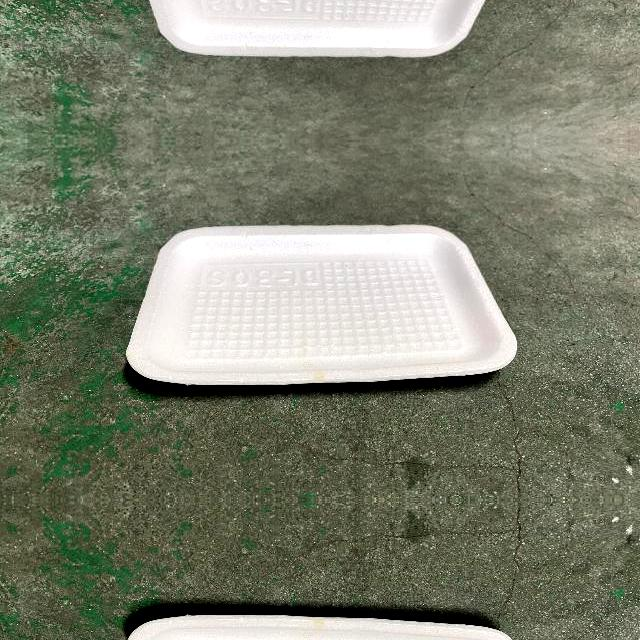Styrofoam: (126, 223, 517, 384), (127, 224, 516, 384), (126, 0, 515, 55), (149, 0, 485, 57)
